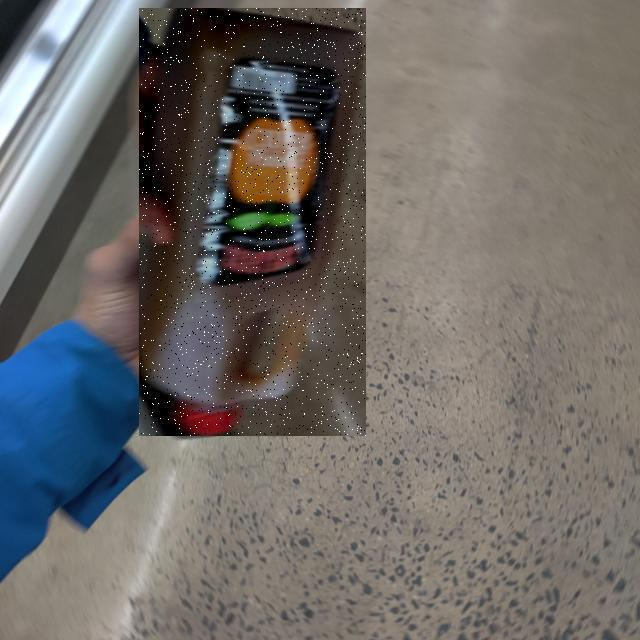Juice: (139, 8, 366, 436)
